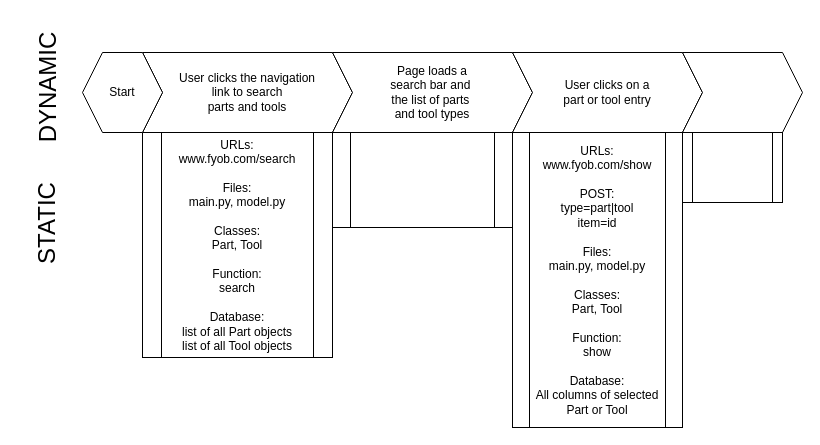
Image size: 820x445. Some labels were removed from this diagram. The centre of each missing label's shape, as x and y in pixels:
"End" belongs at pixel 742 92.
"JavaScript-based search to refine list: JS Functions: refine" belongs at pixel 422 180.
"User may navigate home or back to the list" belongs at pixel 732 167.
